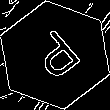P_SE: (23, 24, 87, 86)
